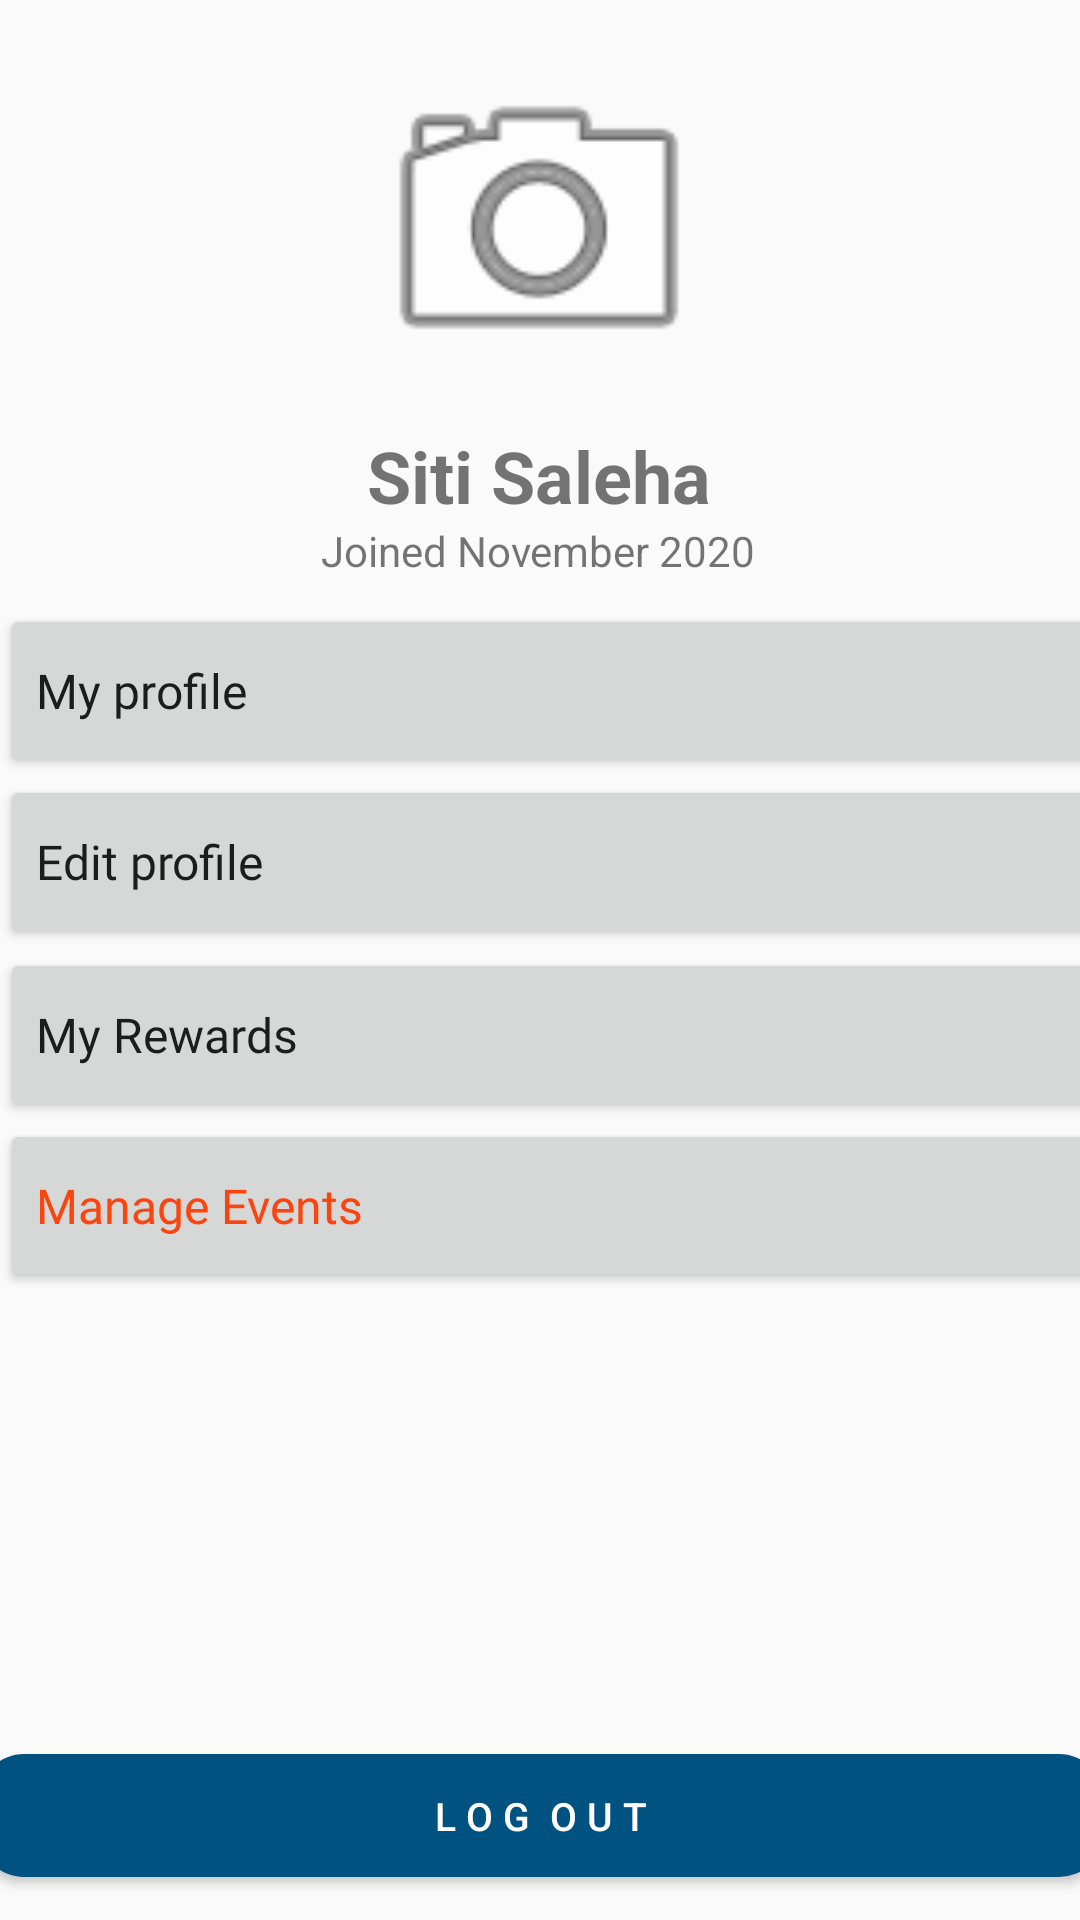

Point at icon controls on the screen. Image size 1080 × 1920, points as [x,y].
camera: [539,217]
